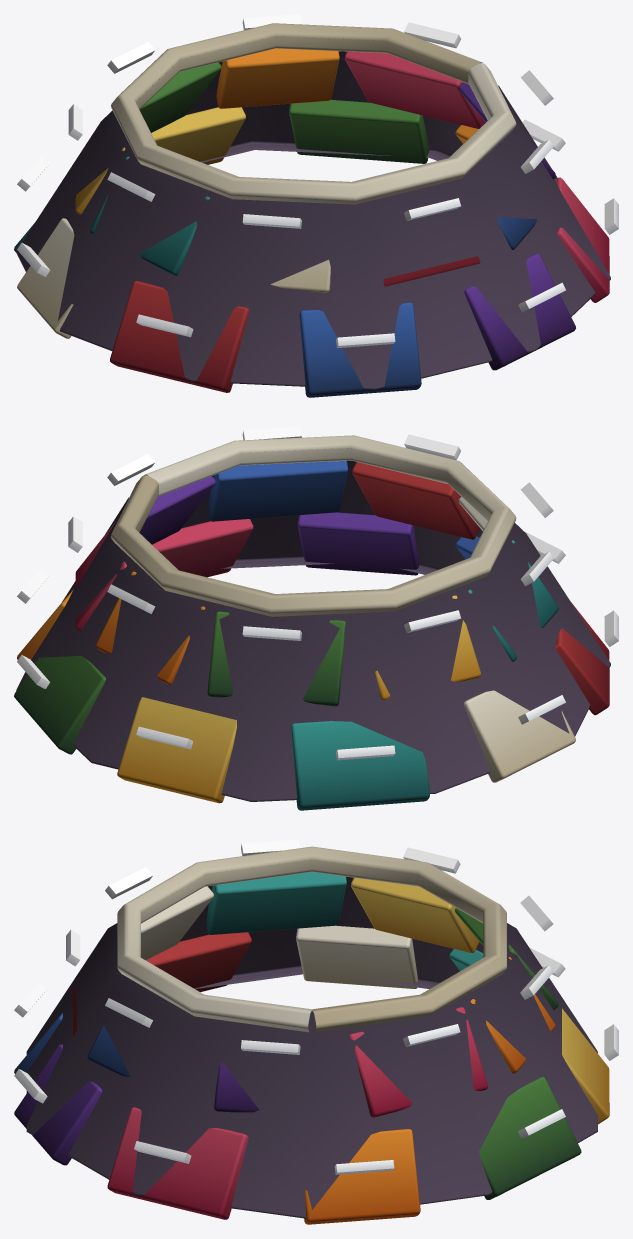
File: lg_patchwork_wards.glb
The picture shows the model from 3 angles, top to bottom: view 1: azimuth 30°, elevation 25°; view 2: azimuth 150°, elevation 25°; view 3: azimuth 270°, elevation 25°; orthographic projection.
Parts seen in each view (by area): view 1: lg_patchwork_wards, lg_patchwork_wards_trim; view 2: lg_patchwork_wards, lg_patchwork_wards_trim; view 3: lg_patchwork_wards, lg_patchwork_wards_trim.
Boxes of the visible parts, box(x1,y1,x2,y2) form: lg_patchwork_wards: box(14, 23, 610, 397); lg_patchwork_wards_trim: box(17, 14, 618, 348); lg_patchwork_wards: box(14, 435, 610, 810); lg_patchwork_wards_trim: box(17, 426, 618, 760); lg_patchwork_wards: box(14, 846, 609, 1224); lg_patchwork_wards_trim: box(14, 839, 618, 1174).
Size of the model in its own units: 2.12 by 0.6593 by 2.08.
